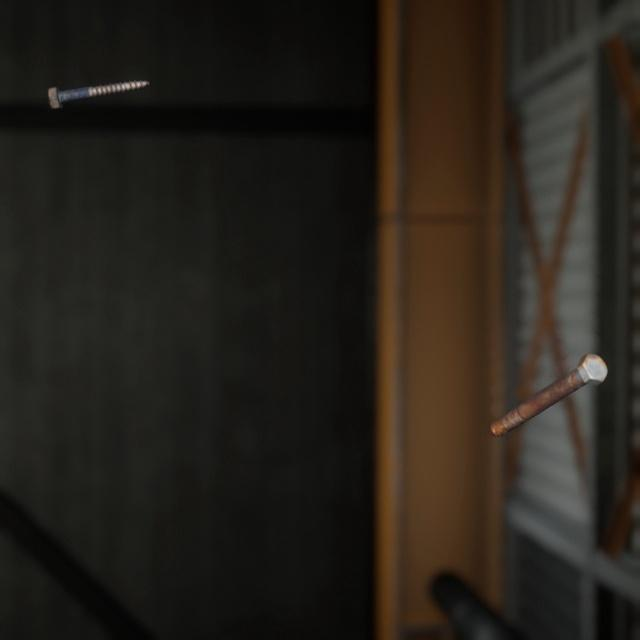bolt: (485, 329, 612, 422), (43, 64, 154, 103)
